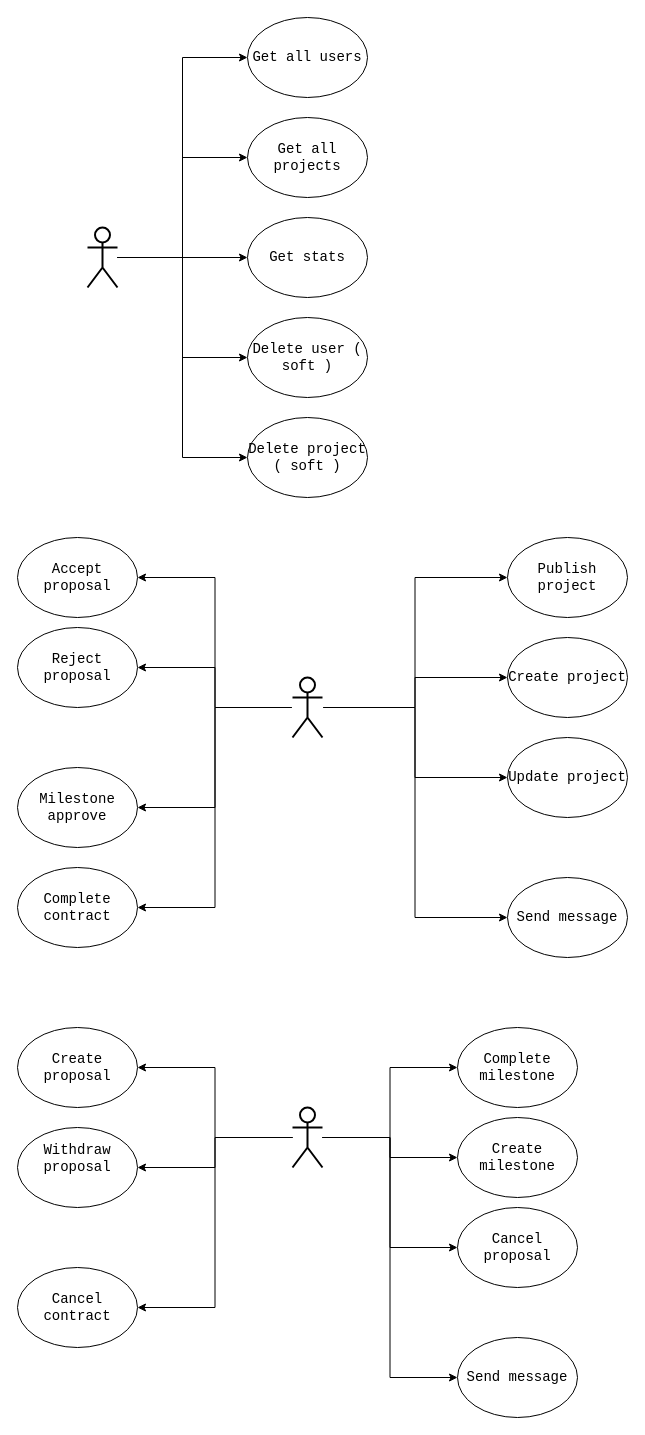
This 645x1435 diagram has some shape labels left out. The centre of each missing label's shape, as x and y in pixels:
Admin: (x=102, y=257)
Client: (x=307, y=707)
Freelancer: (x=307, y=1137)
